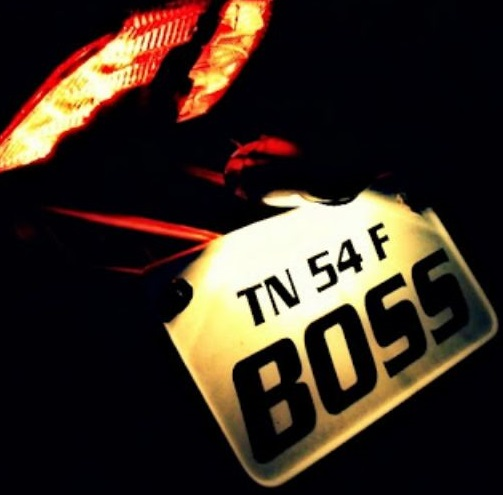number_plate: (132, 217, 487, 423)
